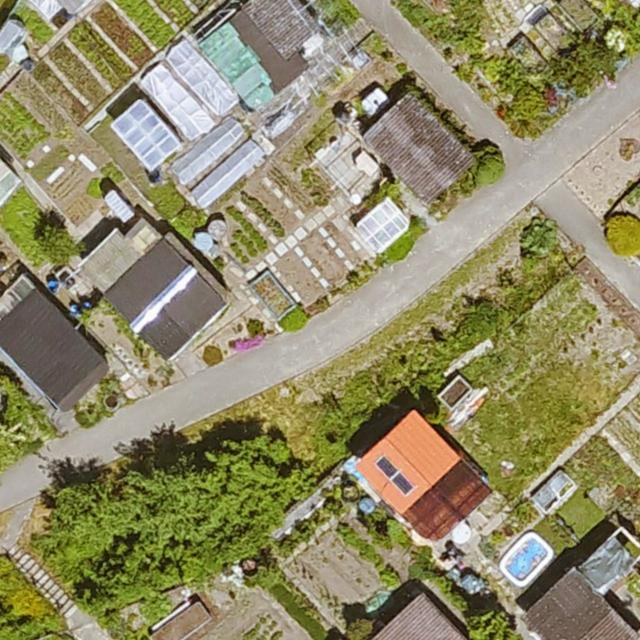tree: (36, 482, 140, 580), (131, 466, 220, 550), (206, 439, 298, 511)
